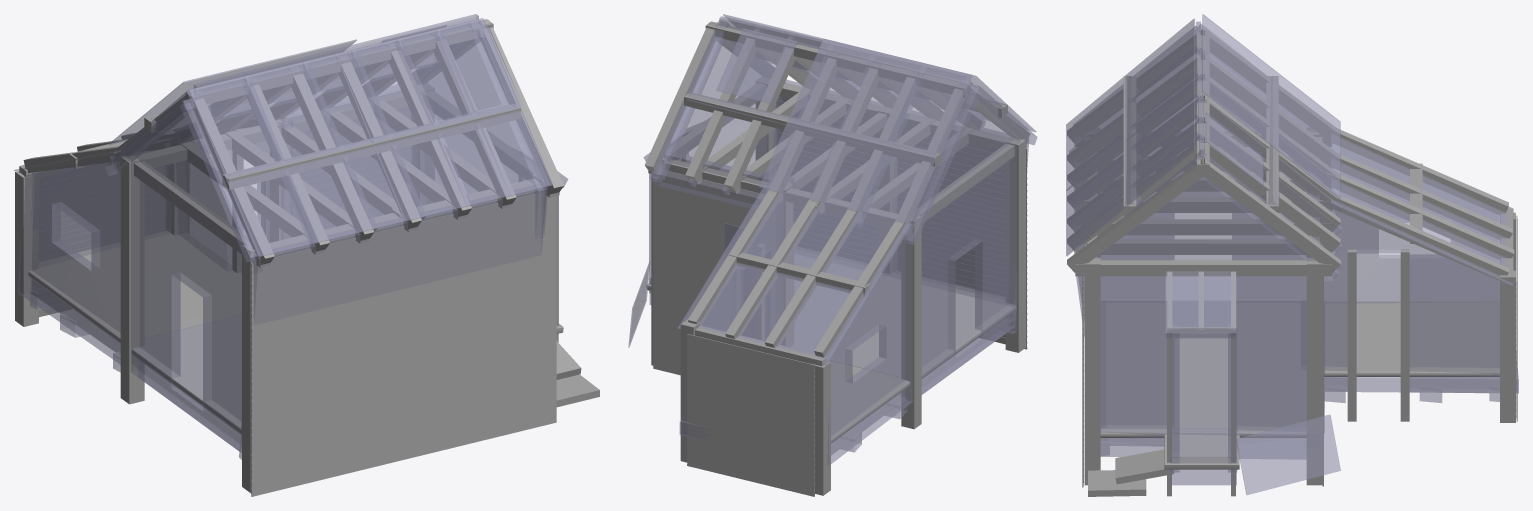
File: casa_prueba1.fbx
The picture shows the model from 3 angles, left to right: view 1: azimuth 30°, elevation 25°; view 2: azimuth 150°, elevation 25°; view 3: azimuth 270°, elevation 25°; orthographic projection. The views are drawn at different scales.
Parts seen in each view (by area): view 1: polySurface3, pCube39, pCube47, pCube3, pCube49, pCube5, pCube48, polySurface1, pCube70, pCube86, pCube69, pCube7 (+80 smaller); view 2: polySurface3, pCube30, pCube43, pCube48, pCube3, polySurface1, pCube86, pCube53, pCube42, pCube49, pCube71, pCube7 (+89 smaller); view 3: polySurface1, pCube48, polySurface4, polySurface3, pCube49, pCube30, pCube47, pCube39, pCube43, pCube7, pCube46, pCube19 (+56 smaller).
Boxes of the visible parts, x1,y1,x2,y2 form: polySurface3: (18,109,261,452); pCube39: (188,54,406,256); pCube47: (335,18,552,221); pCube3: (239,186,546,459); pCube49: (28,231,241,343); pCube5: (31,150,168,262); pCube48: (132,319,241,434); polySurface1: (424,42,547,238); pCube70: (222,104,520,189); pCube86: (120,154,144,404); pCube69: (185,19,493,107); pCube7: (132,315,241,443); polySurface3: (828,92,1026,465); pCube30: (759,39,972,223); pCube43: (677,188,912,365); pCube48: (792,247,1015,378); pCube3: (773,80,1028,333); polySurface1: (668,36,785,179); pCube86: (901,215,921,429); pCube53: (1005,138,1025,352); pCube42: (716,28,797,103); pCube49: (828,357,910,443); pCube71: (684,93,940,166); pCube7: (852,284,1014,386); polySurface1: (1078,177,1311,442); pCube48: (1100,301,1306,437); polySurface4: (1301,192,1499,392); polySurface3: (1101,53,1499,302); pCube49: (1324,301,1499,376); pCube30: (1202,14,1340,199); pCube47: (1066,84,1194,256); pCube39: (1066,18,1194,190); pCube43: (1330,134,1513,286); pCube7: (1100,338,1319,448); pCube46: (1236,414,1340,494); pCube19: (1165,271,1236,338).
Size of the model in its own units: 69.18 by 64.57 by 78.75.
